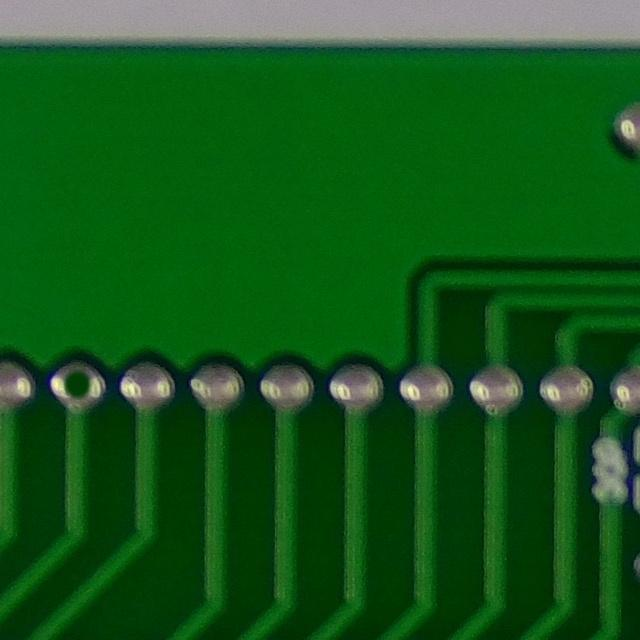missing_hole: (40, 356, 114, 413)
